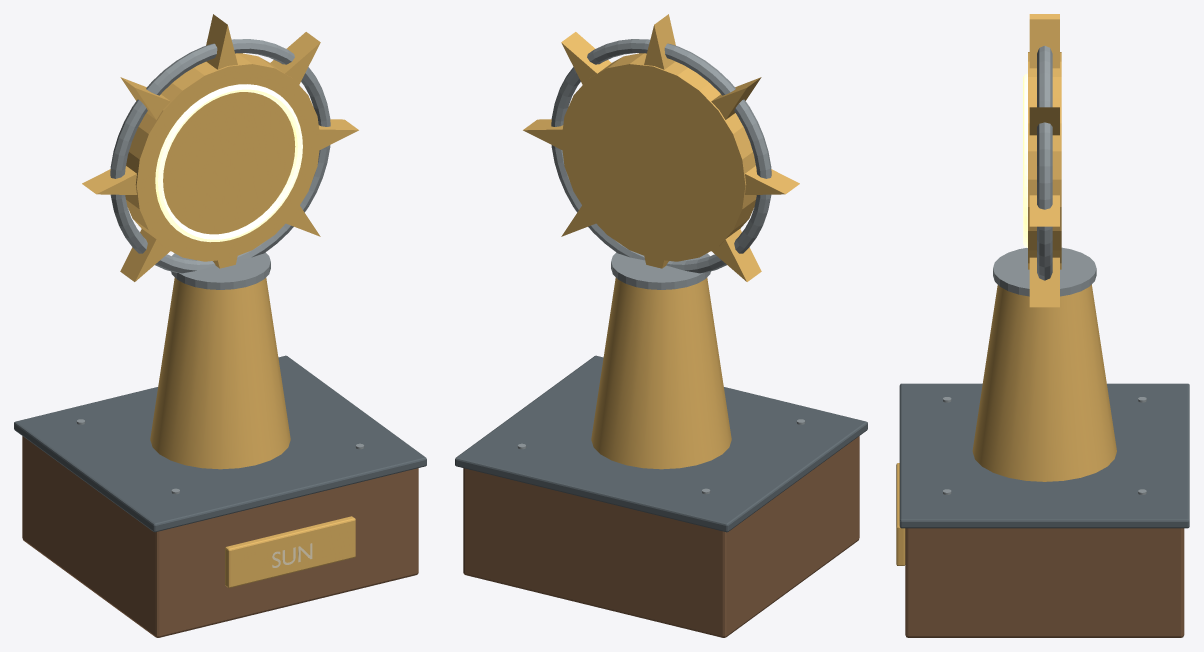
The model's file is AH02_SunTotem.fbx.
3 views of the same model, side by side, from view 1: azimuth 30°, elevation 25°; view 2: azimuth 150°, elevation 25°; view 3: azimuth 270°, elevation 25° (orthographic). The views are drawn at different scales.
Parts seen in each view (by area): view 1: AH02_SunTotem_AH02_Ochre, AH02_SunTotem_AH02_Wood, AH02_SunTotem_AH02_MetalDark, AH02_SunTotem_AH02_Metal, AH02_SunTotem_AH02_GoldGlow; view 2: AH02_SunTotem_AH02_Ochre, AH02_SunTotem_AH02_Wood, AH02_SunTotem_AH02_MetalDark, AH02_SunTotem_AH02_Metal; view 3: AH02_SunTotem_AH02_Wood, AH02_SunTotem_AH02_MetalDark, AH02_SunTotem_AH02_Ochre, AH02_SunTotem_AH02_Metal, AH02_SunTotem_AH02_GoldGlow.
Boxes of the visible parts, left/top/right/bottom form: AH02_SunTotem_AH02_Ochre: left=82, top=14, right=358, bottom=587; AH02_SunTotem_AH02_Wood: left=22, top=436, right=418, bottom=637; AH02_SunTotem_AH02_MetalDark: left=14, top=355, right=426, bottom=532; AH02_SunTotem_AH02_Metal: left=76, top=39, right=364, bottom=494; AH02_SunTotem_AH02_GoldGlow: left=155, top=84, right=302, bottom=242; AH02_SunTotem_AH02_Ochre: left=523, top=14, right=799, bottom=469; AH02_SunTotem_AH02_Wood: left=463, top=436, right=859, bottom=637; AH02_SunTotem_AH02_MetalDark: left=455, top=355, right=867, bottom=532; AH02_SunTotem_AH02_Metal: left=517, top=39, right=805, bottom=494; AH02_SunTotem_AH02_Wood: left=905, top=528, right=1184, bottom=637; AH02_SunTotem_AH02_MetalDark: left=899, top=383, right=1189, bottom=528; AH02_SunTotem_AH02_Ochre: left=896, top=14, right=1116, bottom=565; AH02_SunTotem_AH02_Metal: left=943, top=45, right=1146, bottom=494; AH02_SunTotem_AH02_GoldGlow: left=1023, top=73, right=1027, bottom=247.
Size of the model in its own units: 146 by 274 by 132.
